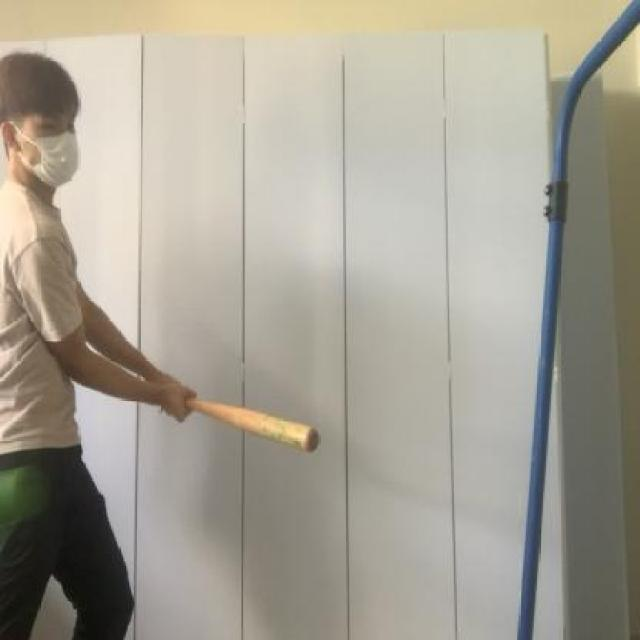baseball: (0, 451, 62, 543)
